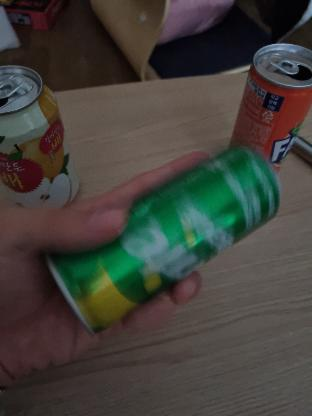Can: (72, 147, 254, 323)
